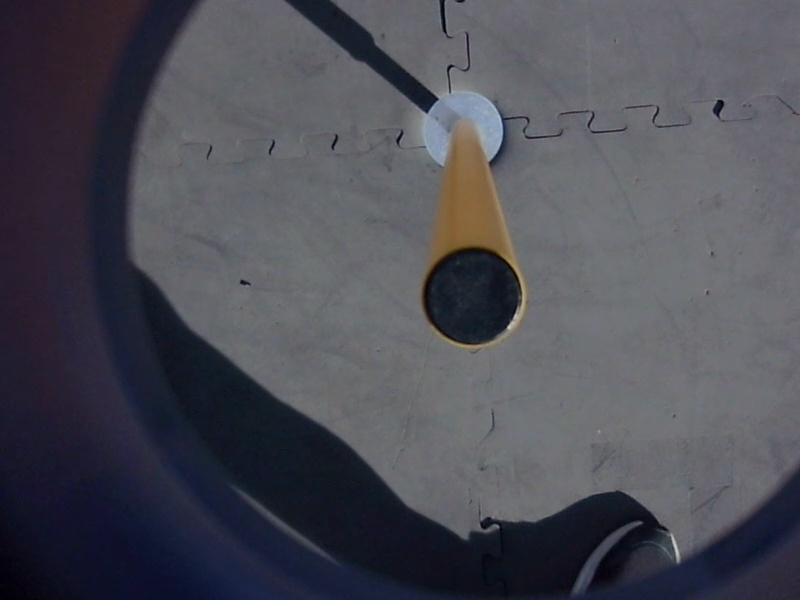tip: (416, 243, 529, 353)
